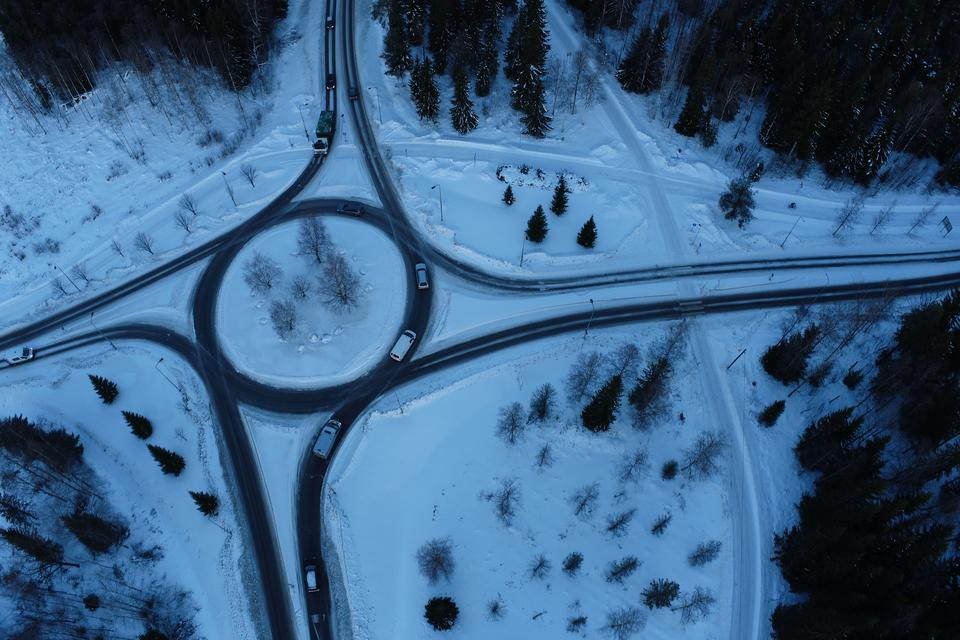intersection: (647, 234, 721, 344), (274, 117, 412, 173)
roundabout: (166, 190, 448, 426)
